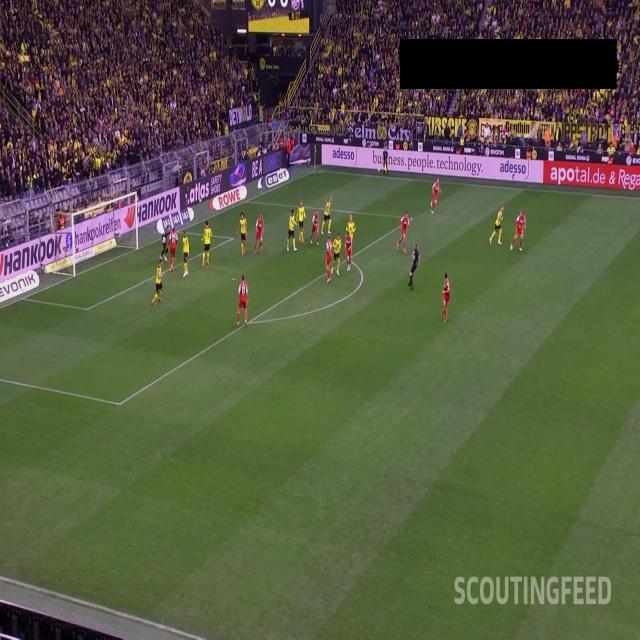ball: (162, 235, 168, 248)
f_player: (289, 204, 307, 250), (323, 234, 339, 284), (510, 210, 528, 252), (407, 242, 422, 292), (439, 272, 452, 322), (180, 231, 192, 285), (238, 274, 250, 326), (491, 206, 506, 246), (154, 264, 168, 306), (397, 213, 412, 252), (344, 215, 356, 263), (168, 224, 178, 272), (288, 212, 300, 251), (202, 222, 212, 266), (238, 213, 248, 256), (256, 216, 266, 254), (430, 179, 440, 216), (324, 196, 334, 232), (310, 212, 320, 246)
